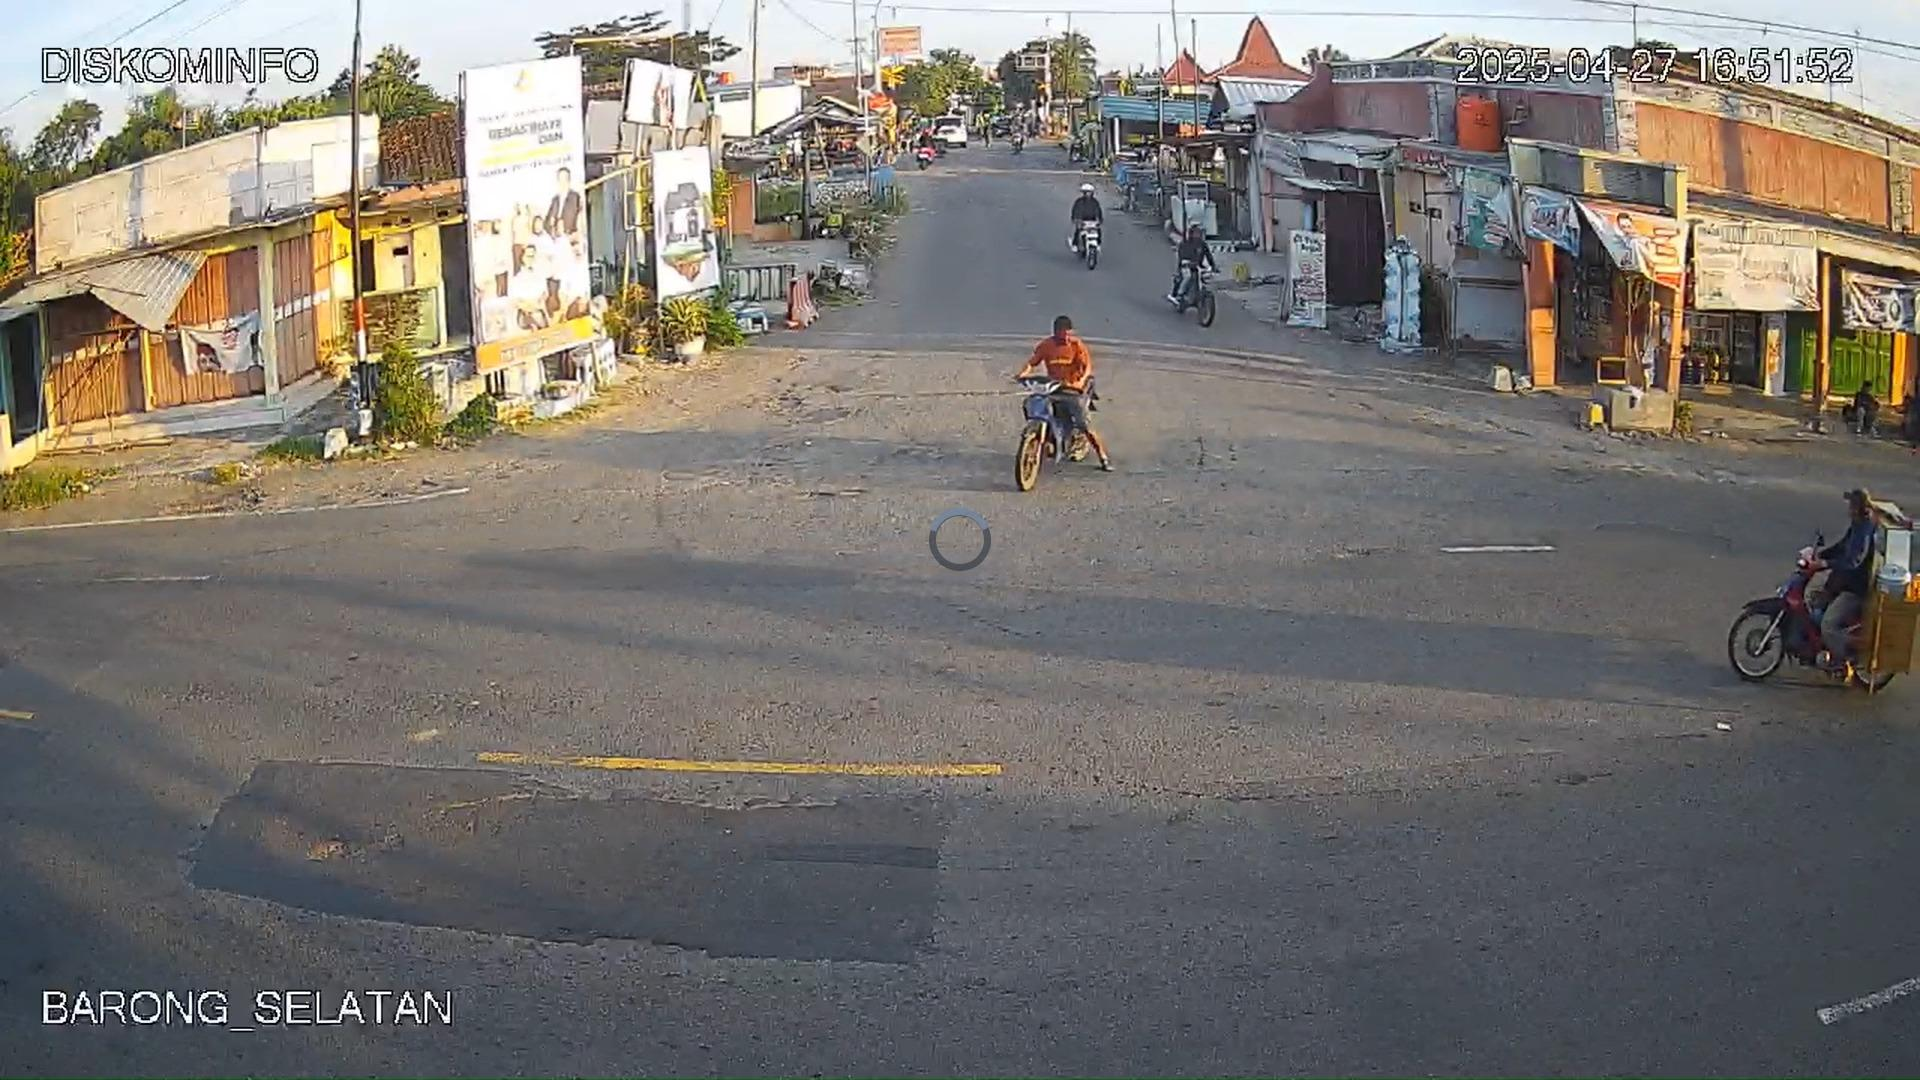Motor: (1796, 488, 1891, 673), (1013, 316, 1108, 473), (1167, 260, 1216, 326), (1068, 215, 1105, 273)
